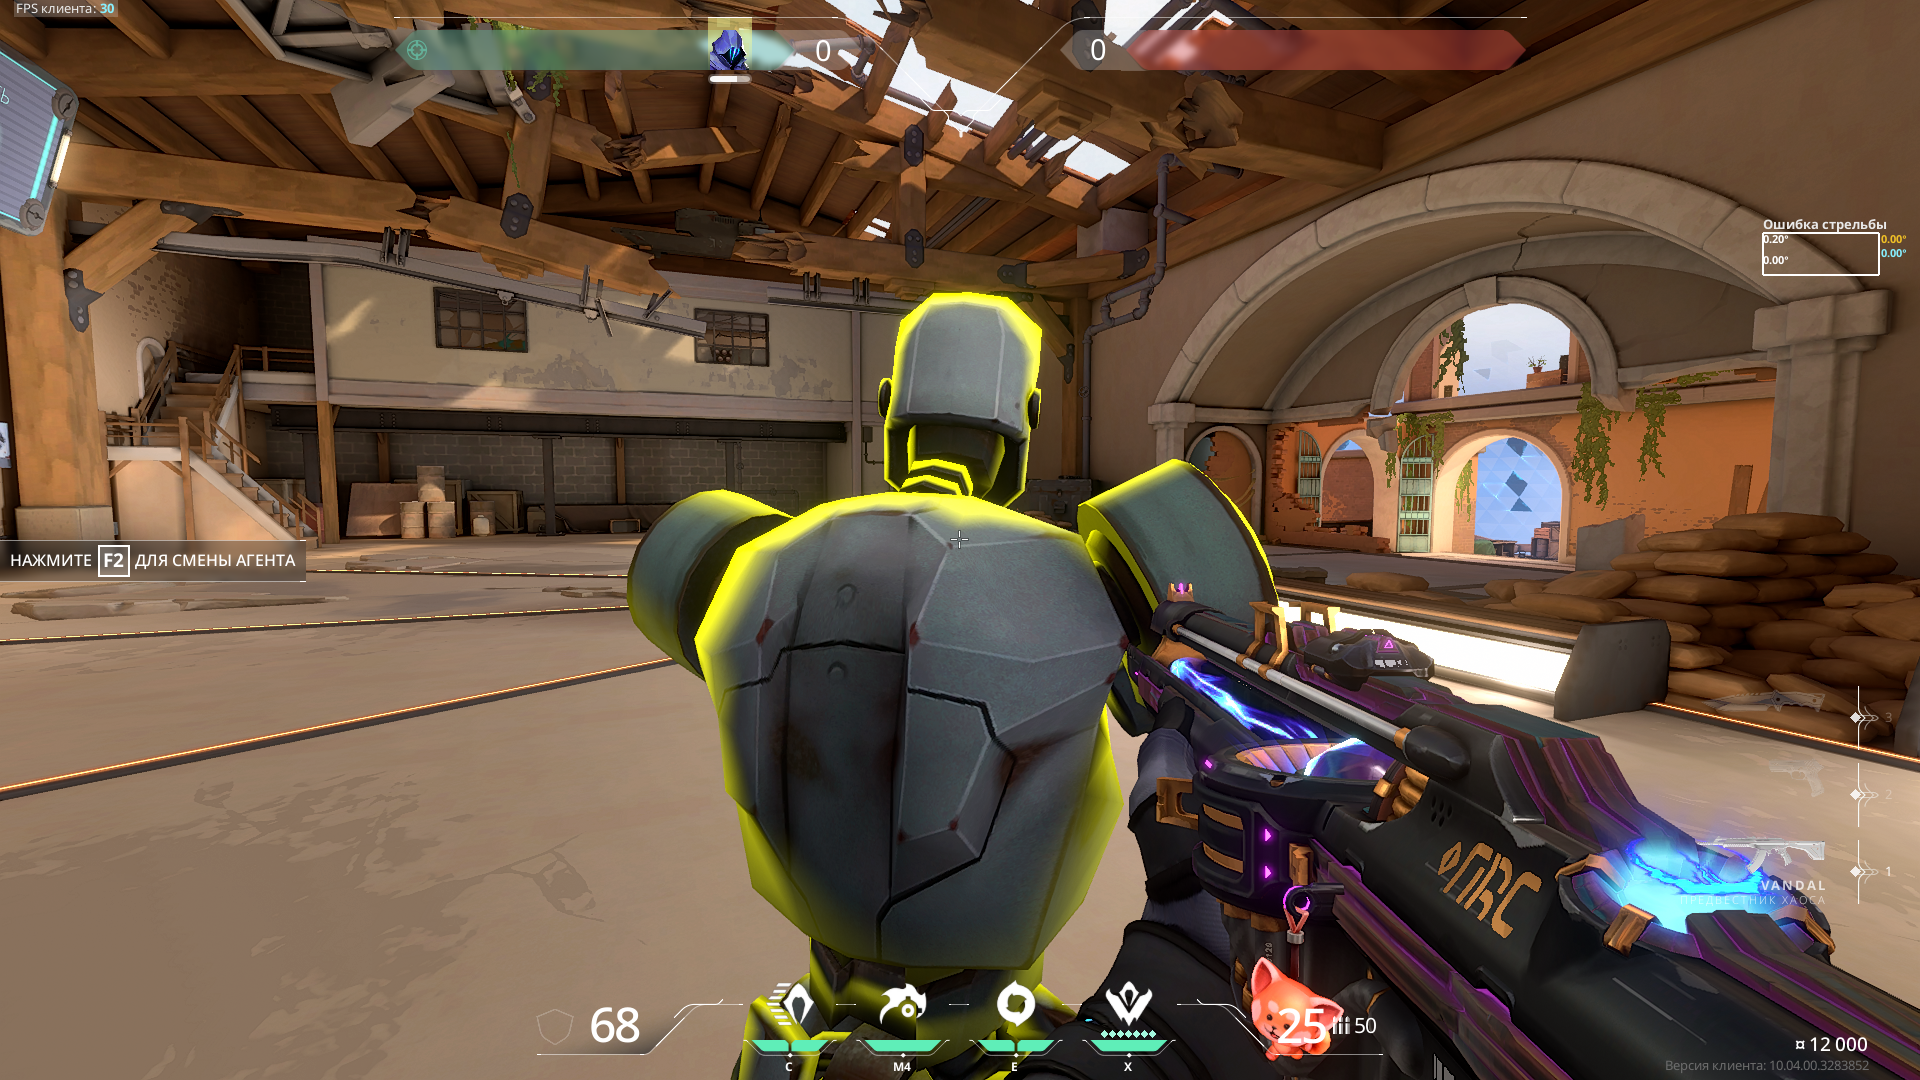head: (877, 291, 1040, 506)
